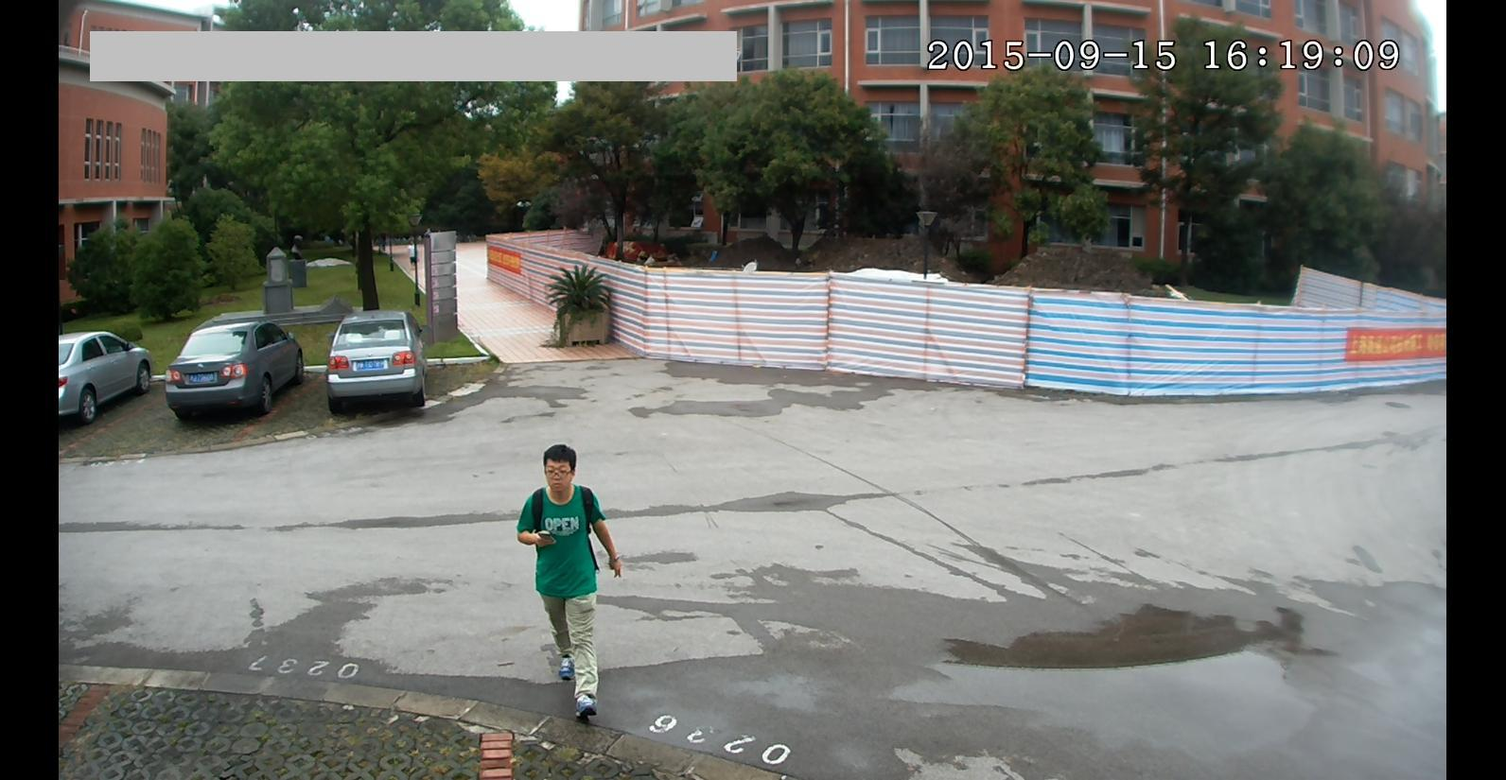person: (517, 439, 631, 719)
